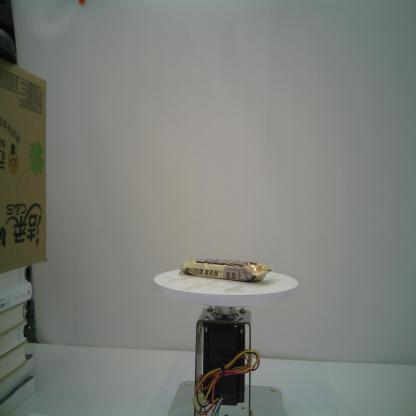Chocolate: (178, 256, 274, 283)
